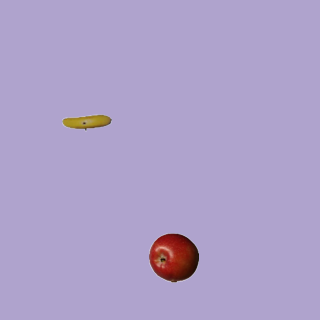Apple Braeburn: (148, 232, 198, 282)
Banana: (61, 97, 111, 147)
